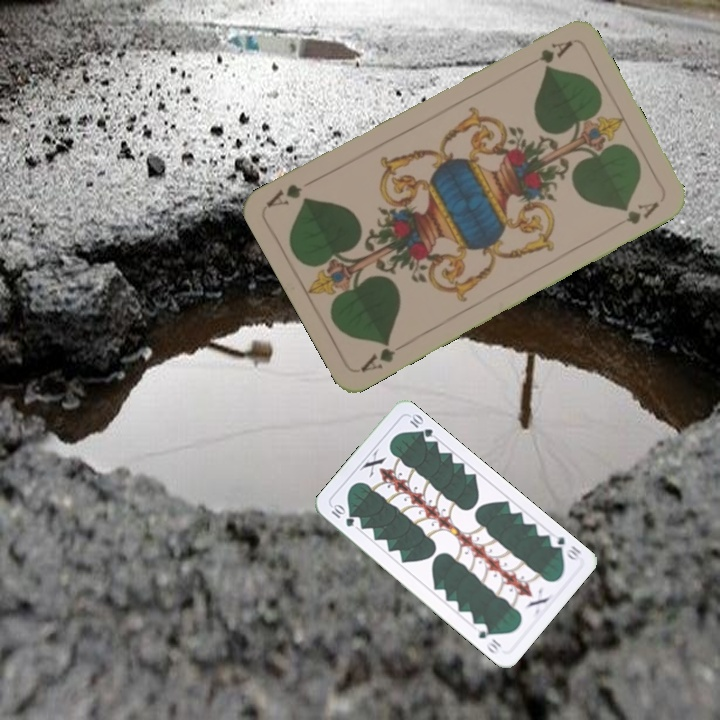G10: (545, 530, 585, 564), (327, 500, 357, 530)
GA: (356, 336, 398, 375), (535, 36, 575, 66)
